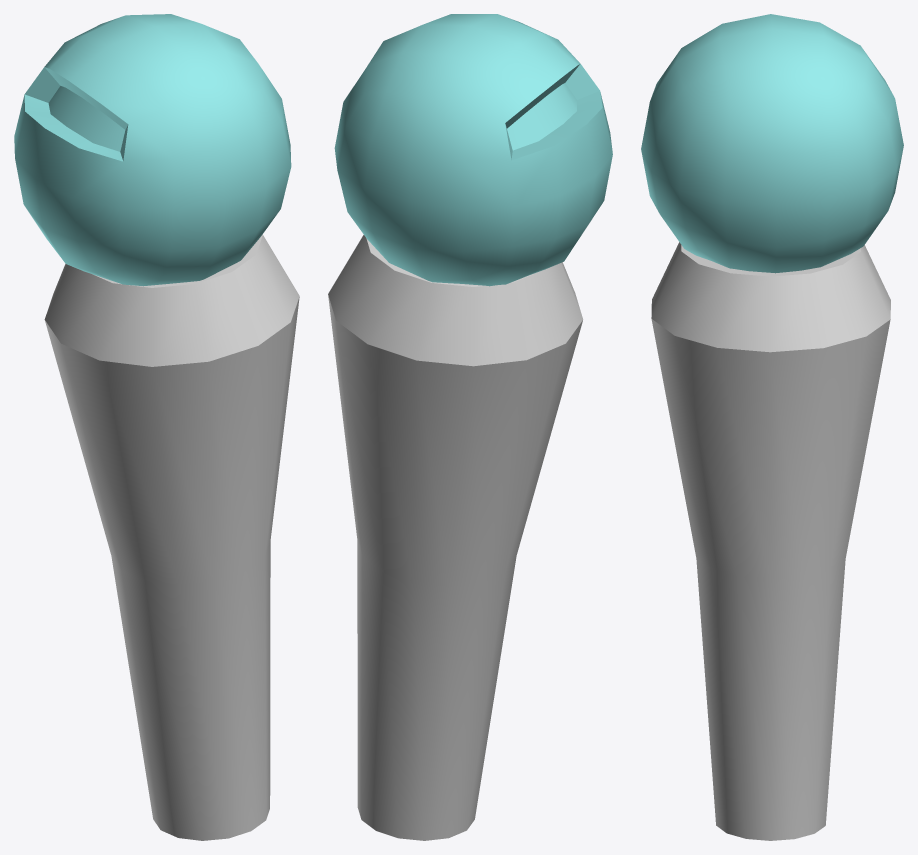
File: R_ARM.fbx
3 views of the same model, side by side, from view 1: azimuth 30°, elevation 25°; view 2: azimuth 150°, elevation 25°; view 3: azimuth 270°, elevation 25° (orthographic). The views are drawn at different scales.
Parts seen in each view (by area): view 1: pCylinder5, pCube5; view 2: pCylinder5, pCube5; view 3: pCylinder5, pCube5.
Boxes of the visible parts, left/top/right/bottom form: pCylinder5: left=44, top=234, right=299, bottom=840; pCube5: left=14, top=14, right=291, bottom=286; pCylinder5: left=328, top=235, right=583, bottom=840; pCube5: left=334, top=14, right=612, bottom=286; pCylinder5: left=651, top=242, right=890, bottom=840; pCube5: left=641, top=14, right=903, bottom=273.
Bounding box in the file's own units: 0.5269 × 1.63 × 0.5048.
